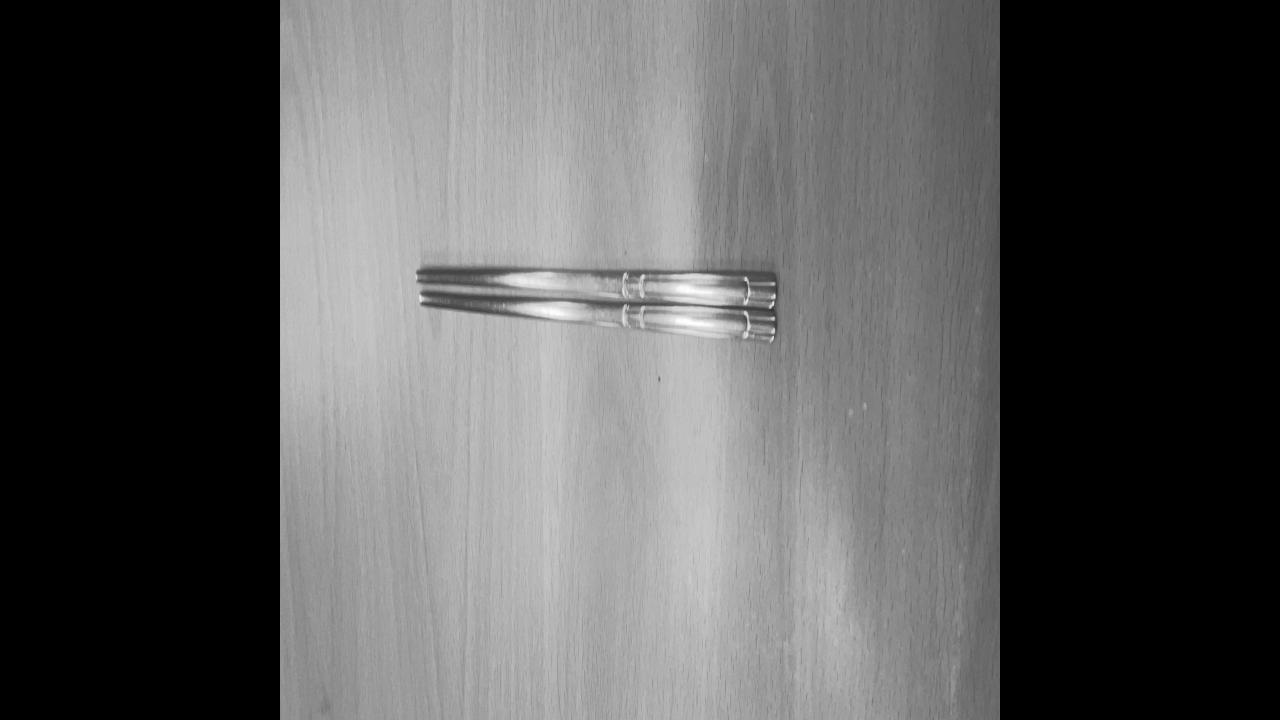chopstick: (412, 261, 782, 347)
